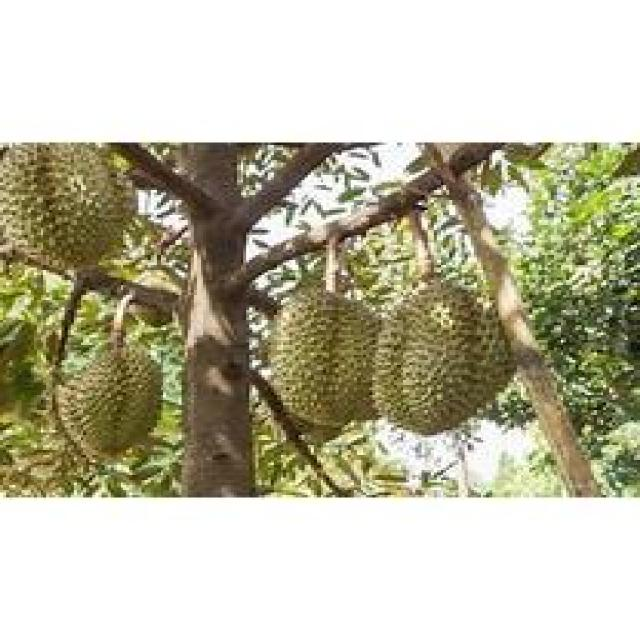fruit: (360, 260, 526, 445), (252, 268, 391, 438), (0, 140, 148, 285), (52, 335, 172, 463)
